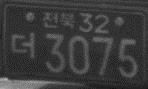0: (67, 35, 91, 76)
2: (94, 13, 110, 35)
3: (44, 32, 66, 73), (78, 11, 93, 33)
5: (117, 37, 139, 78)
7: (90, 34, 114, 75)
더: (11, 30, 36, 59)
전북_O: (41, 9, 76, 31)
